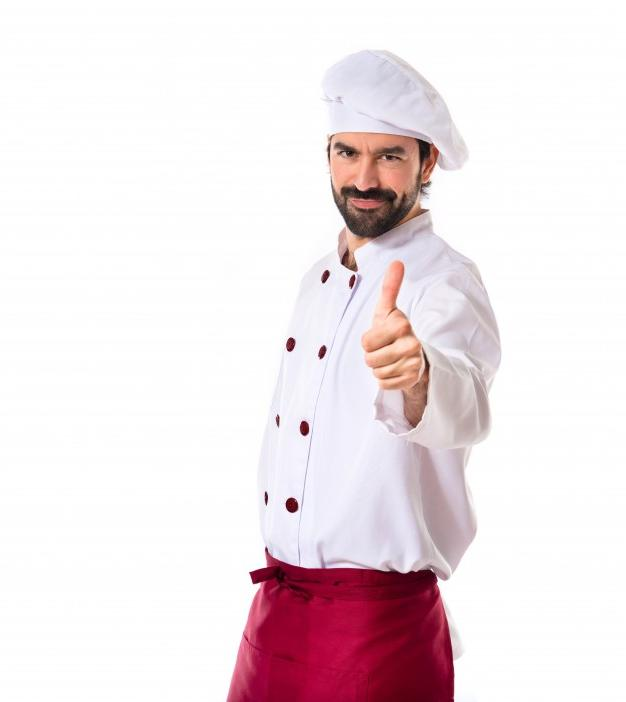thumbsup: (362, 260, 425, 391)
